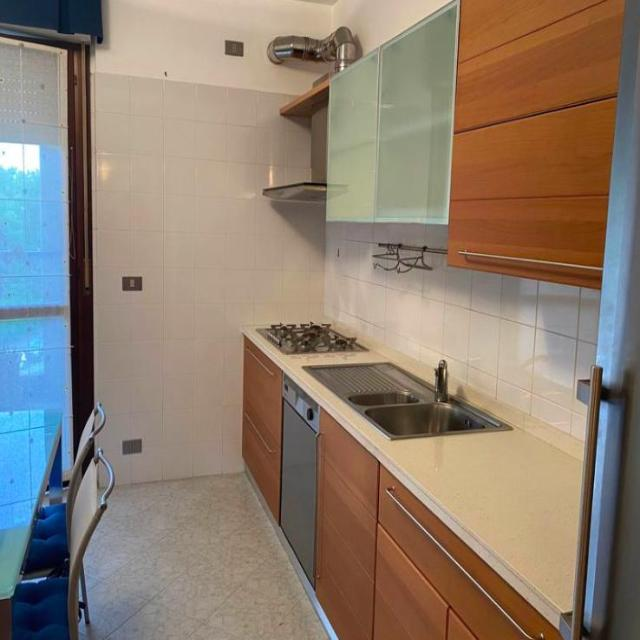dishwasher: (281, 372, 318, 592)
